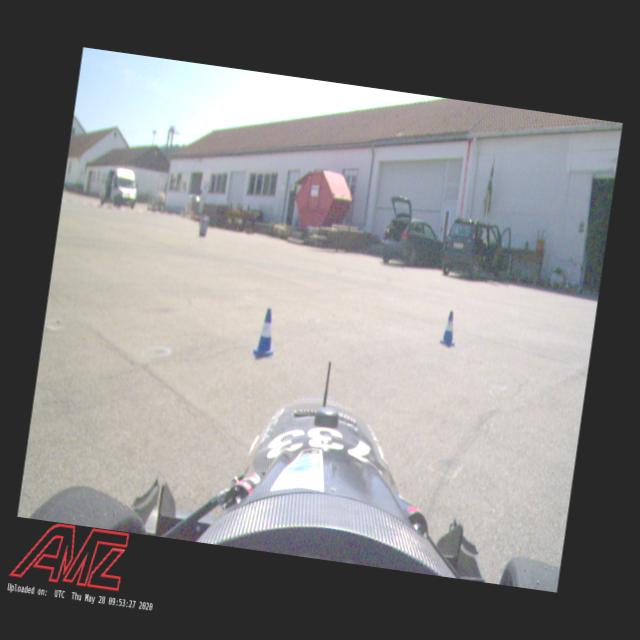blue_cone: (252, 306, 280, 359), (438, 309, 461, 348)
